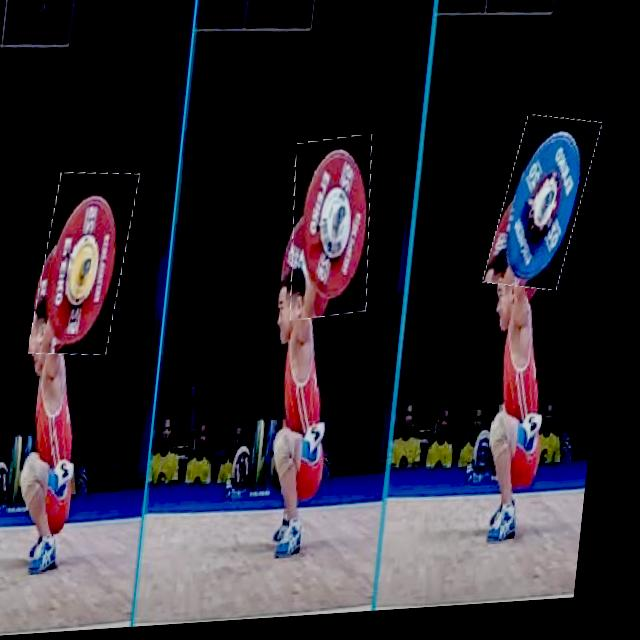barbell: (40, 172, 141, 360), (496, 123, 600, 300), (290, 141, 386, 325)
